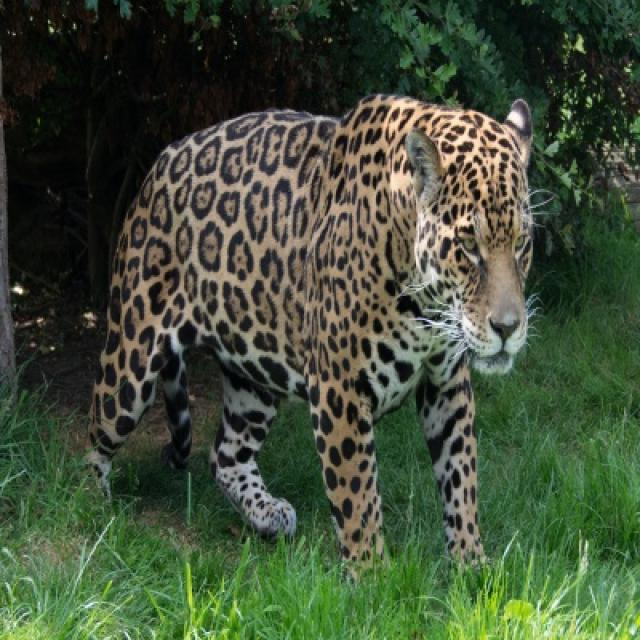Jaguar: (86, 94, 534, 565)
